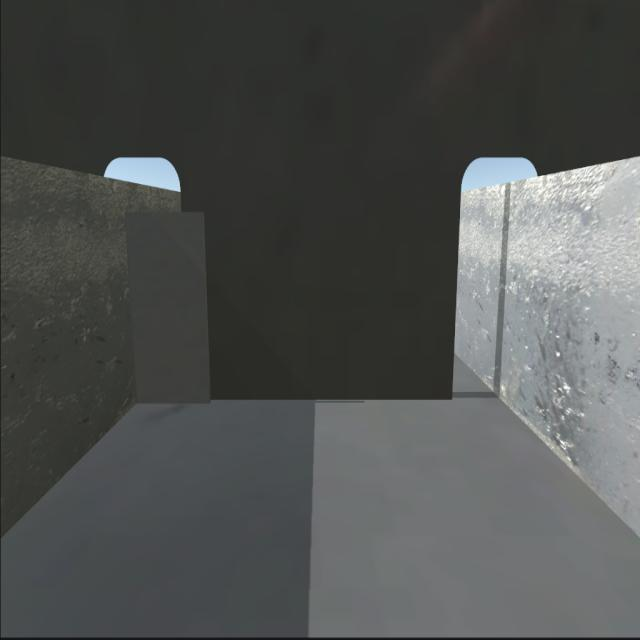fillet_yong_jeop_jang: (132, 396, 452, 406)
longi_yong_jeop_jang: (124, 213, 138, 402)
plate_CP01: (127, 214, 212, 404)
